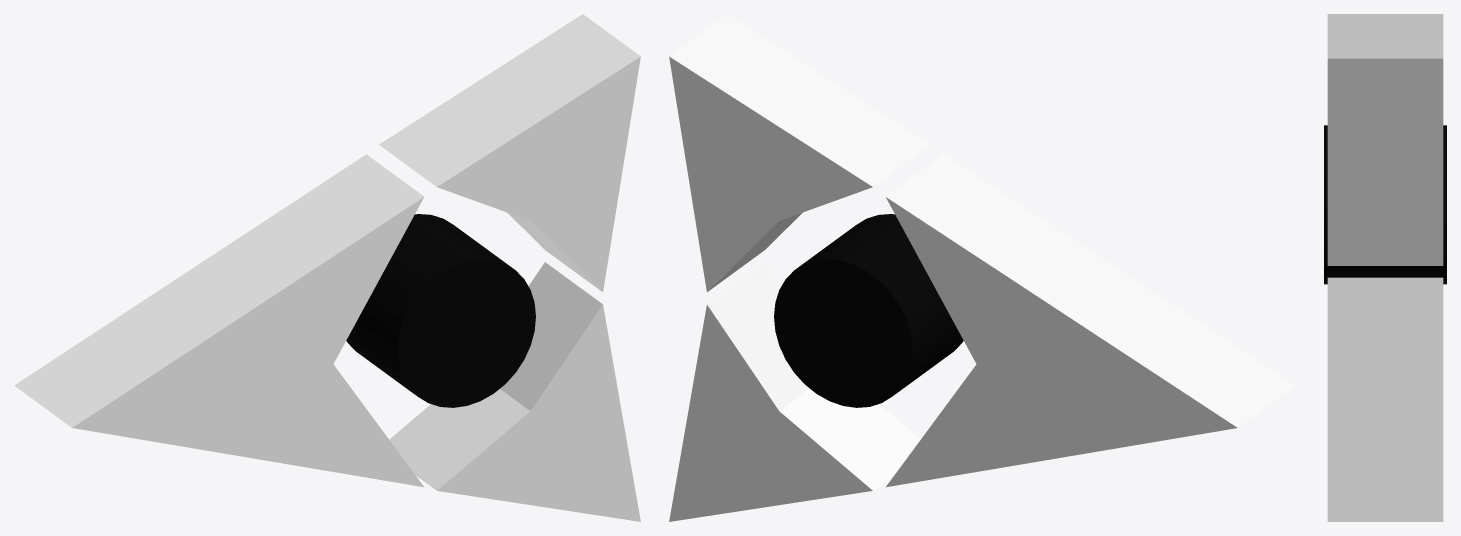
The model's file is playerModel v0.6.obj.
The picture shows the model from 3 angles, left to right: view 1: azimuth 30°, elevation 25°; view 2: azimuth 150°, elevation 25°; view 3: azimuth 270°, elevation 25°; orthographic projection.
Parts seen in each view (by area): view 1: Union_Cube.031; view 2: Union_Cube.031; view 3: Union_Cube.031.
Part boxes in pixels (x1,y1,x2,y2): Union_Cube.031: (14, 14, 640, 521); Union_Cube.031: (669, 14, 1295, 521); Union_Cube.031: (1324, 14, 1446, 521).
Size of the model in its own units: 5.66 by 4.43 by 1.06.
